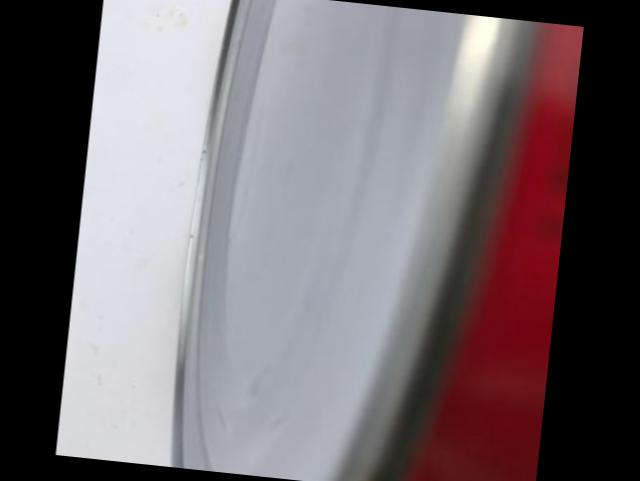metal: (171, 0, 584, 481)
